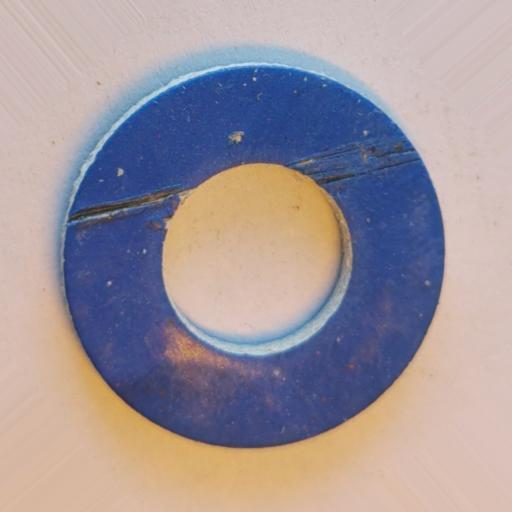defect: (292, 137, 420, 183), (68, 185, 187, 227)
